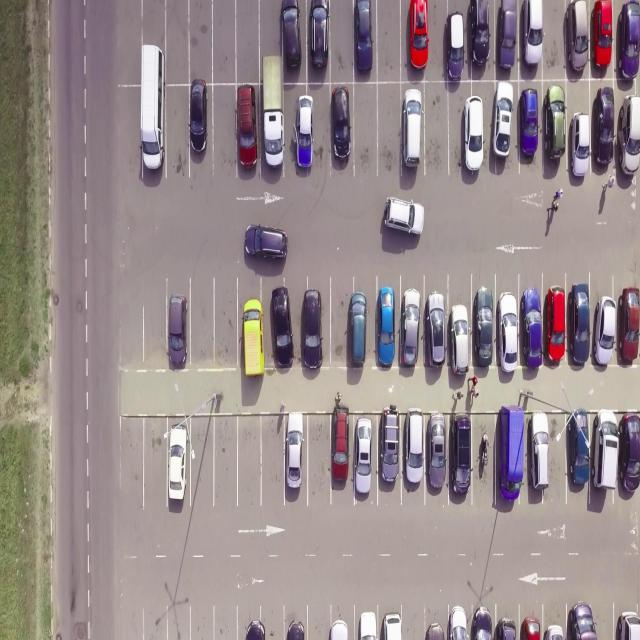Car: (235, 82, 258, 170), (568, 282, 592, 366), (450, 414, 474, 496), (617, 0, 640, 81), (522, 287, 544, 371), (567, 406, 590, 486), (272, 285, 294, 368), (498, 291, 520, 373), (565, 1, 590, 73), (594, 86, 616, 167), (303, 288, 324, 372), (383, 194, 424, 237), (618, 94, 640, 174), (492, 80, 514, 160), (619, 412, 640, 492), (529, 412, 550, 492), (293, 93, 315, 169), (546, 285, 567, 364), (168, 294, 190, 369), (474, 286, 494, 368), (399, 288, 420, 366), (464, 95, 485, 173), (522, 0, 546, 68), (544, 86, 566, 160), (376, 287, 396, 367), (245, 224, 288, 261), (594, 294, 616, 366), (591, 0, 613, 72), (426, 291, 446, 369), (380, 402, 399, 484), (188, 79, 209, 153), (331, 87, 352, 161), (619, 286, 639, 362), (450, 303, 471, 375), (427, 411, 446, 490), (348, 291, 368, 365), (309, 0, 330, 70), (280, 0, 301, 70), (470, 0, 492, 66), (408, 0, 429, 69), (406, 406, 424, 486), (570, 112, 592, 177), (169, 425, 188, 500), (355, 0, 374, 74), (286, 411, 304, 489), (446, 13, 466, 83), (520, 87, 540, 157), (354, 418, 372, 494), (498, 0, 517, 71), (332, 406, 349, 482), (449, 604, 470, 640), (472, 606, 492, 640), (359, 611, 377, 640), (244, 619, 266, 640), (496, 618, 516, 640), (523, 616, 541, 638), (286, 622, 305, 640), (426, 622, 444, 640), (546, 624, 564, 640)
Cycle: (481, 433, 491, 466)
Truck: (261, 55, 285, 169)
Van: (139, 43, 166, 171), (499, 405, 525, 502), (592, 408, 621, 490), (242, 299, 265, 378), (402, 89, 424, 168)
